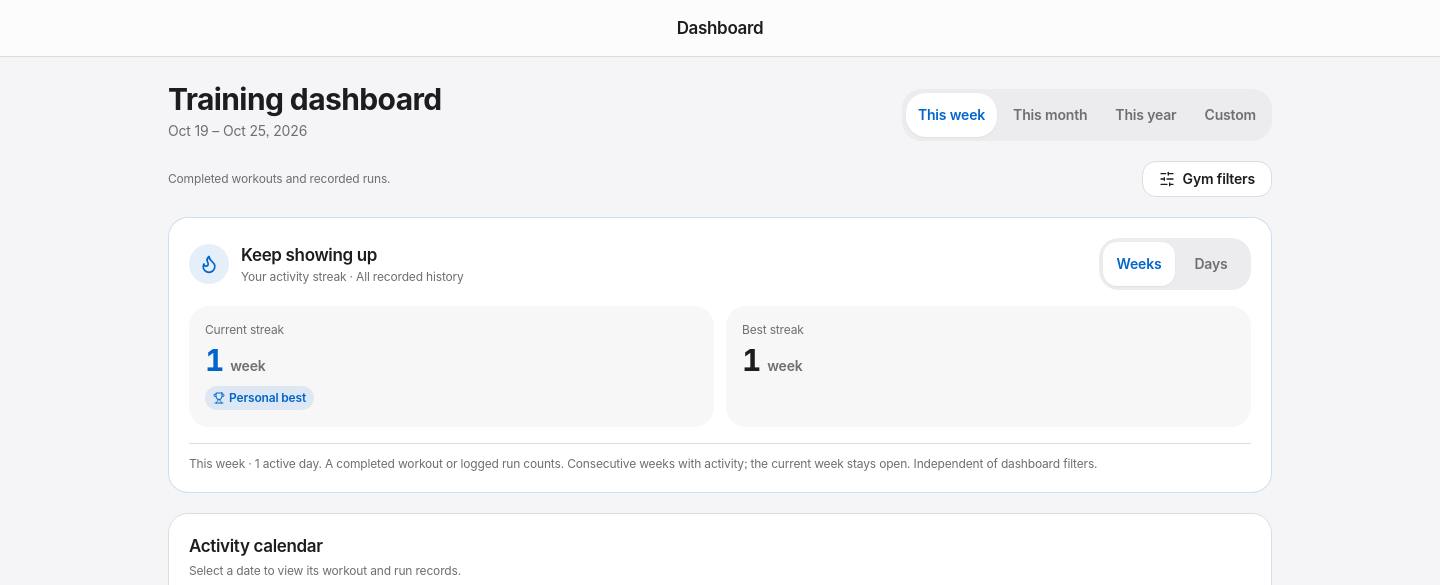
Test case: shows factual cards and applies optional filters only to gym records
This screenshot has width=1440, height=585.
Click the button "Gym filters": (1207, 179) [1142,161,1272,197]
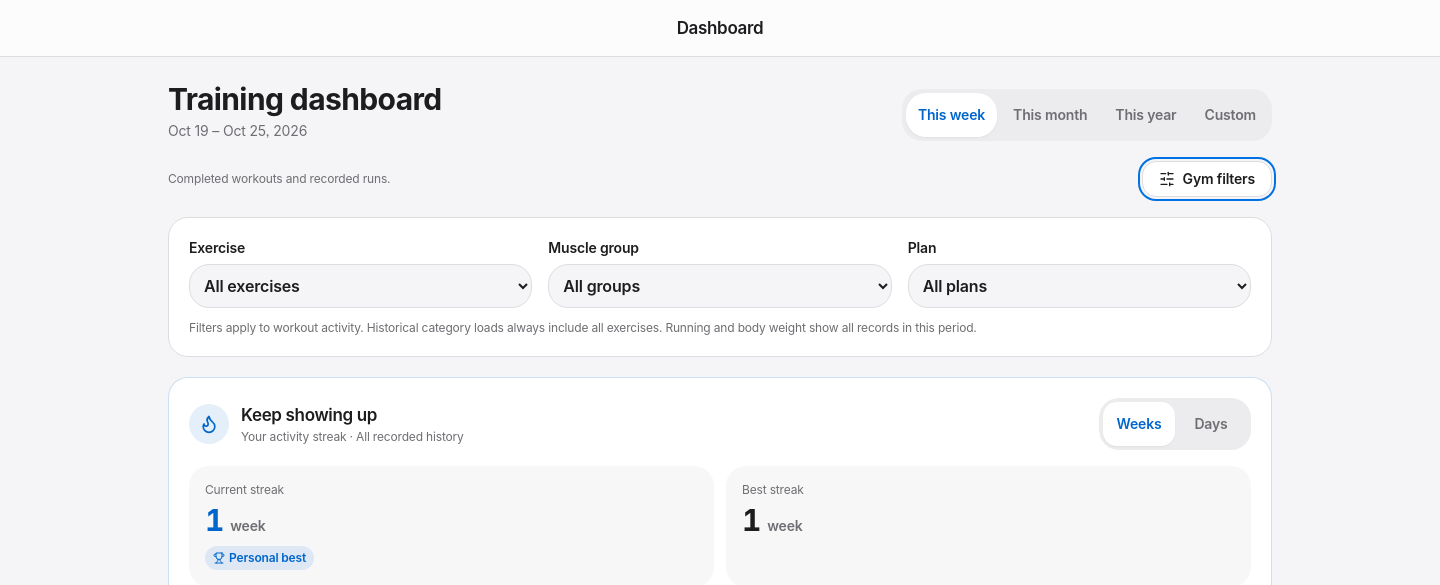
Select "Legs" in the dropdown labelled "Muscle group": (720, 286) [548,264,892,308]
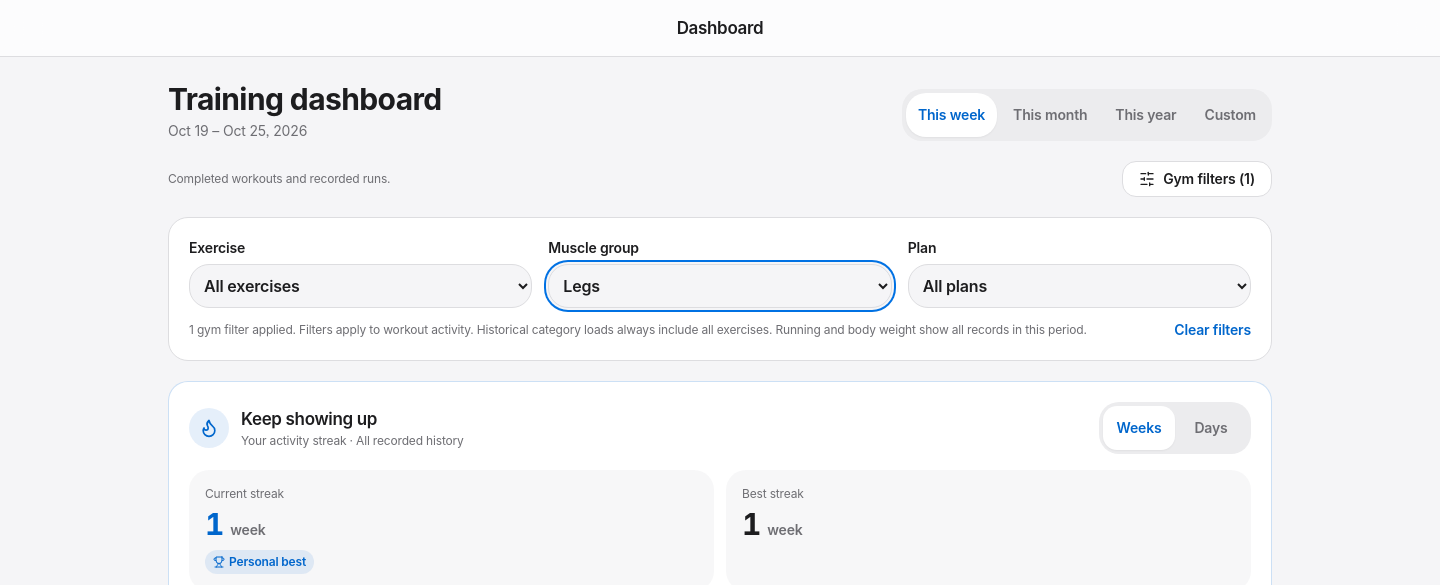
Click the button "Gym filters (1)": (1197, 179) [1122,161,1272,197]
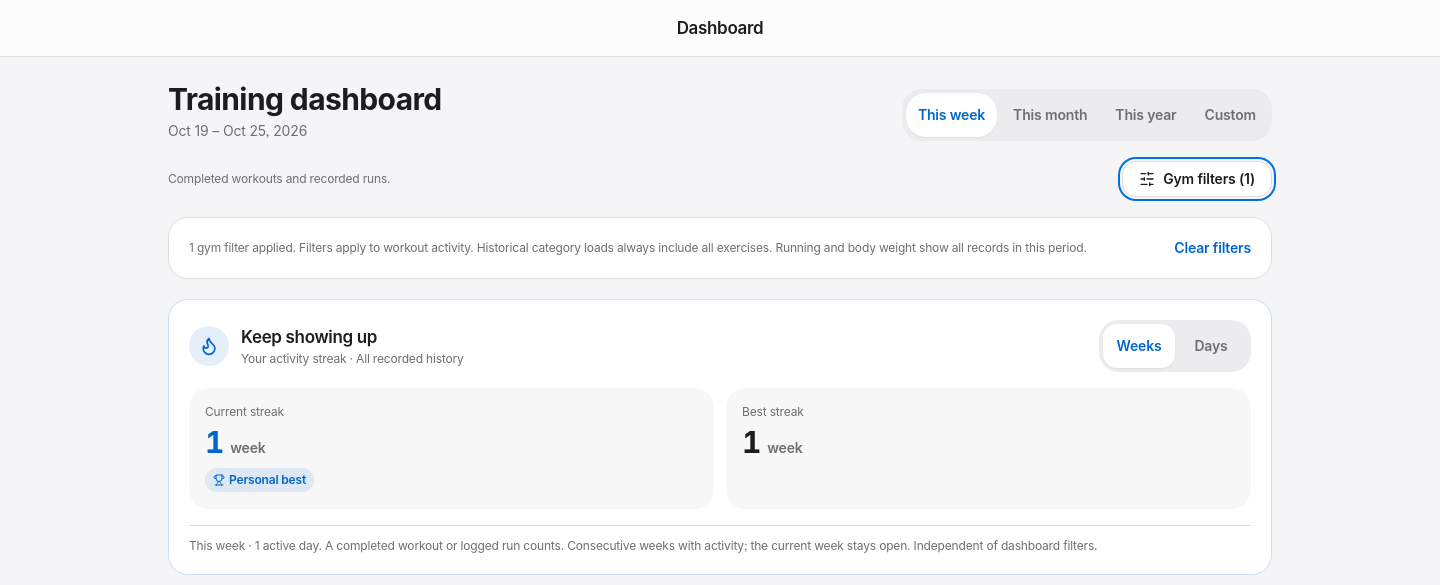
Now the text "1 gym filter applied" is shown, box [189,240,299,255]
Now the dropdown is gone
Click the button "Clear filters": (1213, 248) [1174,238,1251,258]
(page scrolled)
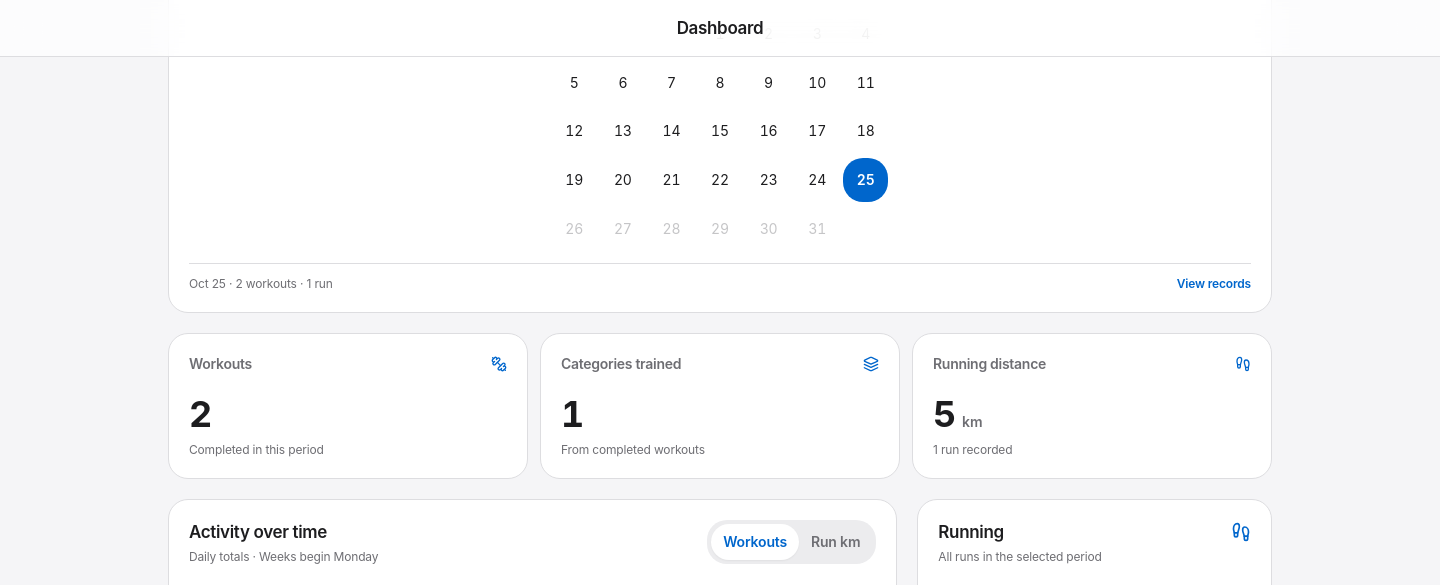
Now the element "Workouts" shows "2", box [189,392,212,436]
